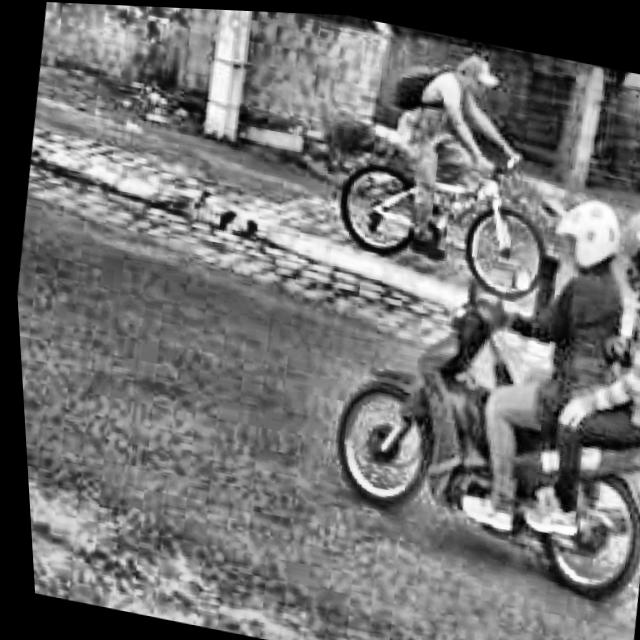bike: (309, 106, 556, 298)
motorcycle: (297, 259, 640, 601)
